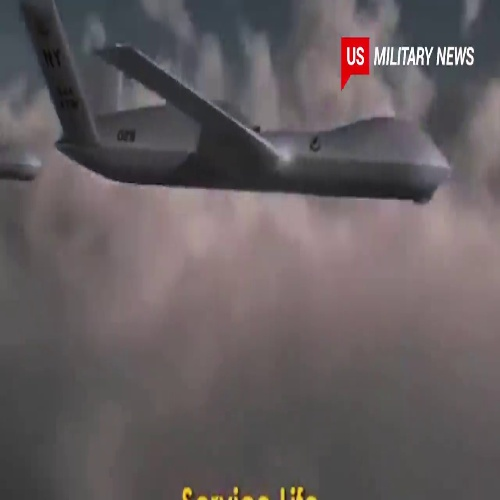uav: (18, 1, 455, 206)
